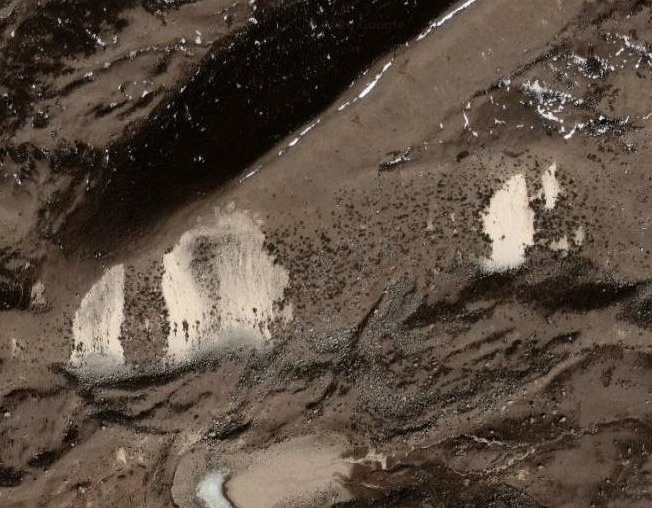slope: (156, 198, 294, 361), (63, 258, 133, 374), (475, 170, 538, 274), (539, 160, 561, 213)
